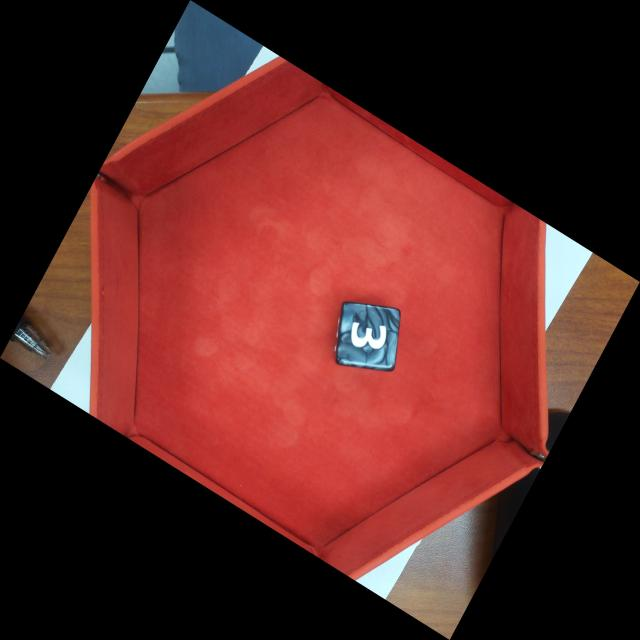dice: (335, 299, 402, 371)
